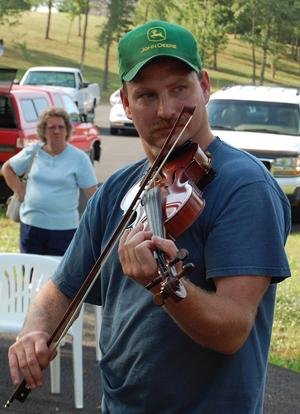person: (9, 21, 289, 413)
